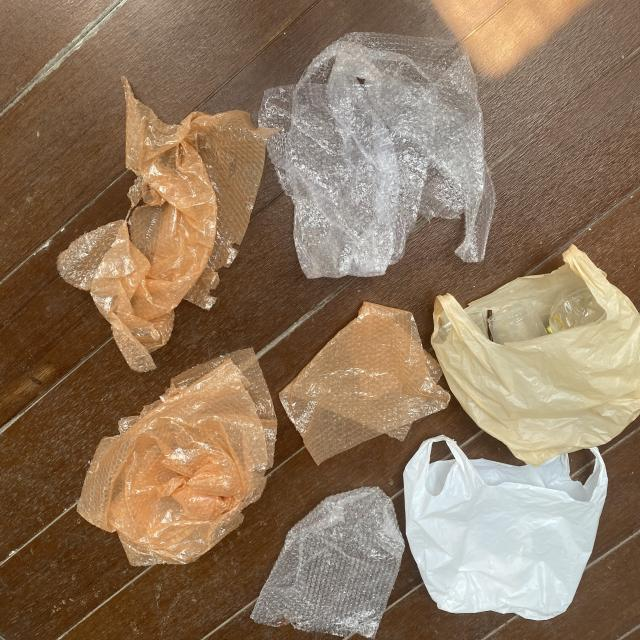Single-layer Plastic: (58, 78, 272, 372), (259, 32, 495, 279), (431, 245, 640, 466), (78, 349, 276, 566), (404, 436, 608, 620), (279, 302, 450, 464), (251, 488, 404, 638)
